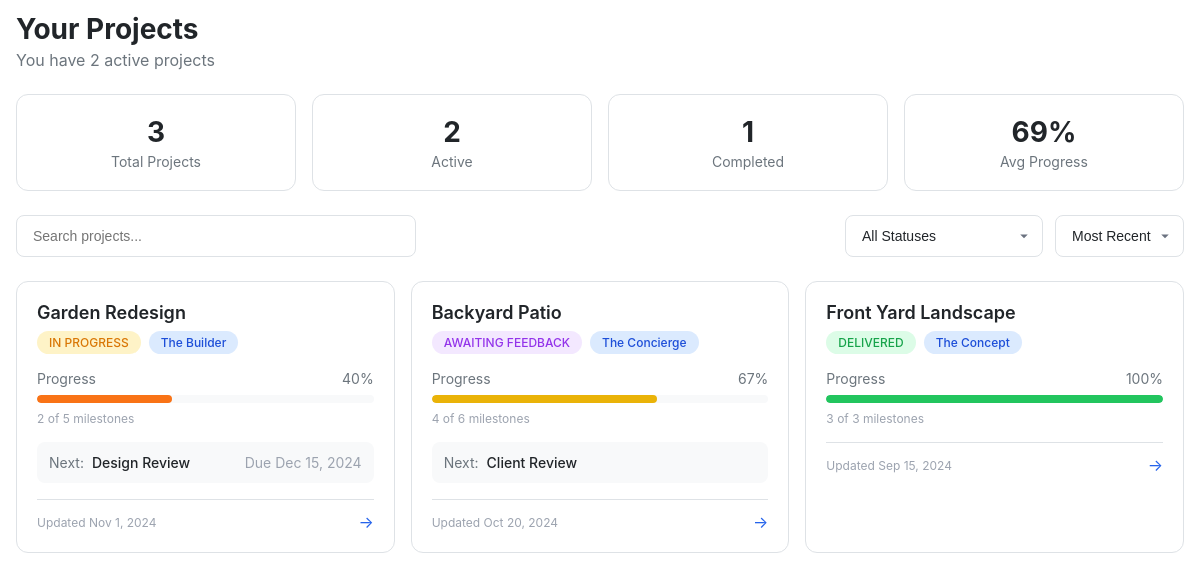
Test: ProjectDashboard › interactions › should filter projects by status
Select "DELIVERED" in the dropdown named "filter by status". click: coordinates (944, 236)
box: [845,215,1043,257]
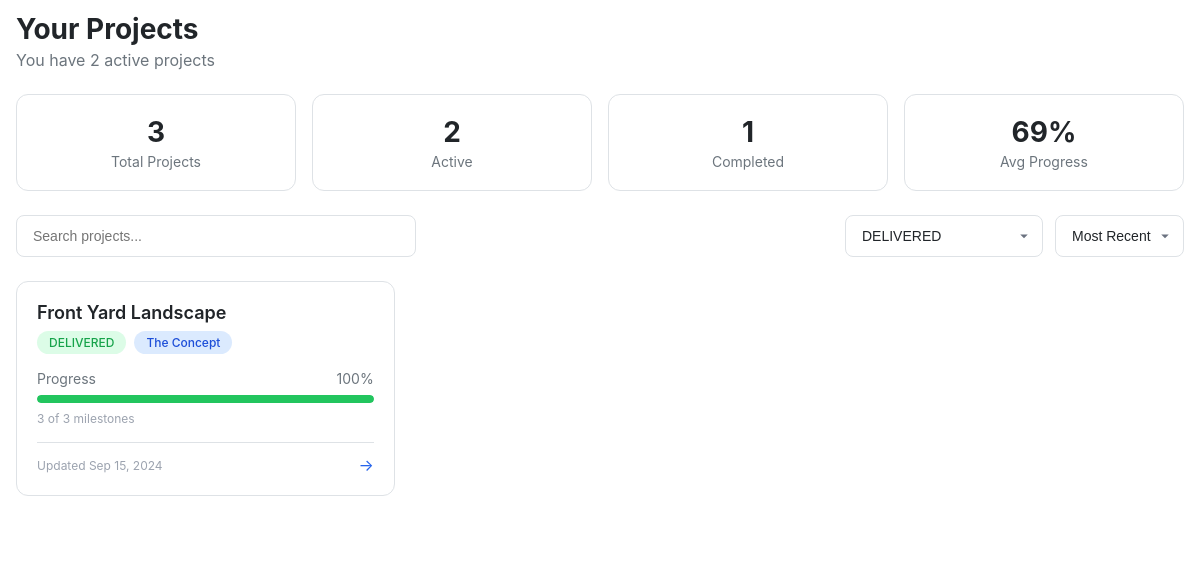
Expected: the heading "Front Yard Landscape" is shown, [37,302,226,323]
Result: the button "Garden Redesign" is gone
